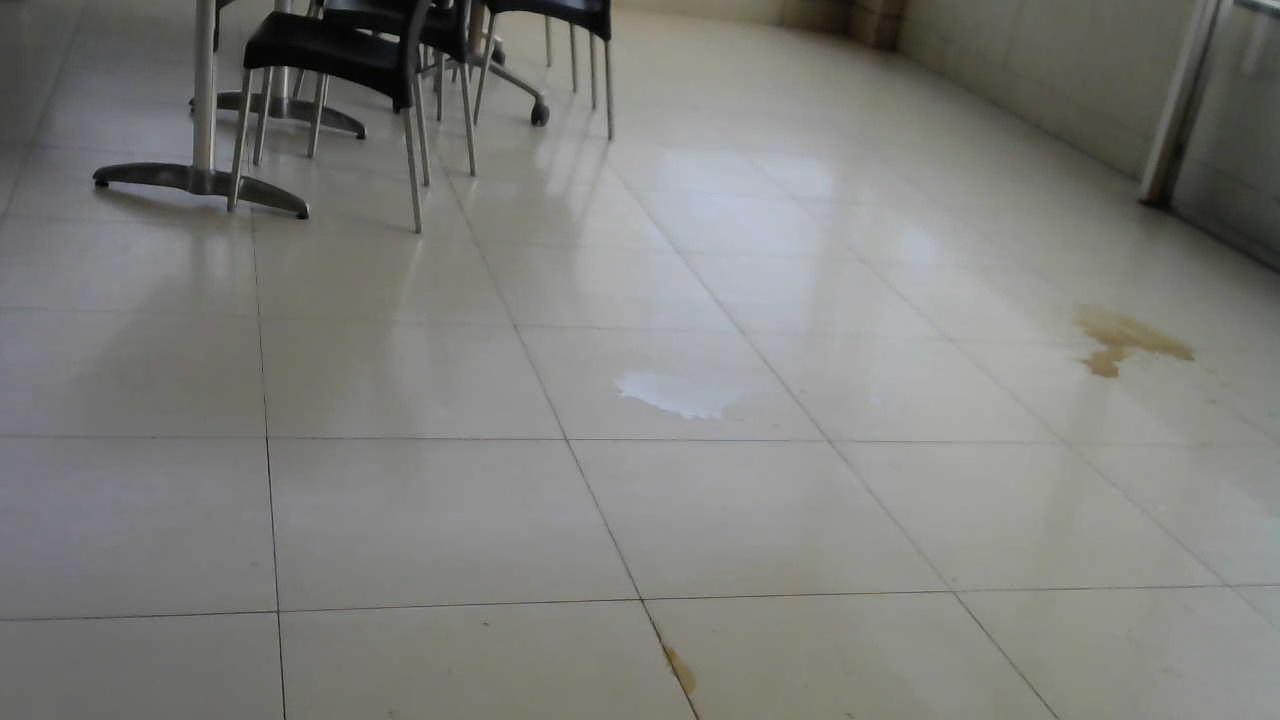dirty_floor: (1066, 298, 1203, 383), (611, 364, 742, 425)
